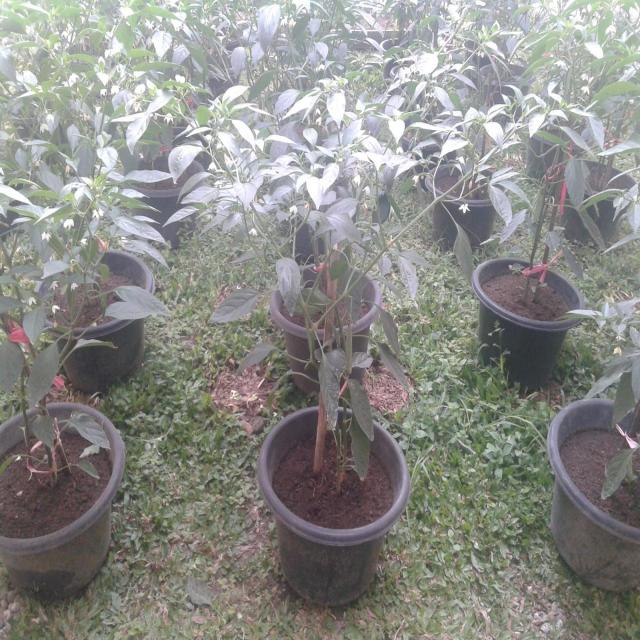sehat: (199, 286, 264, 329), (23, 336, 63, 405), (342, 375, 380, 444), (271, 254, 299, 311)
